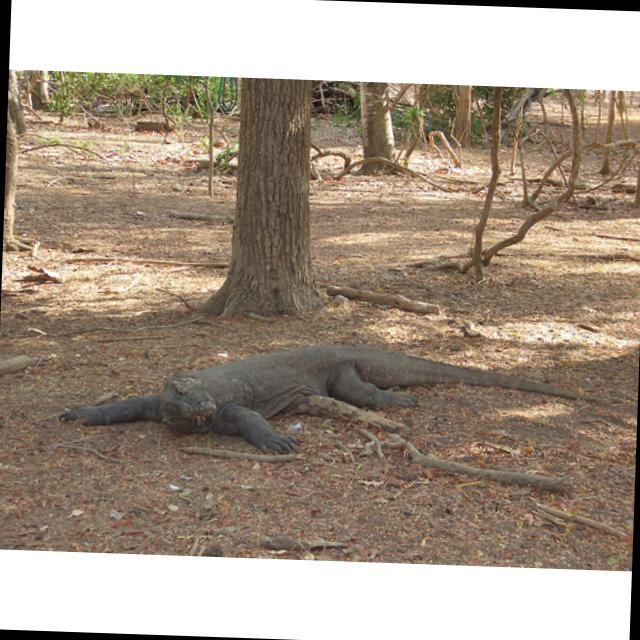KomodoDragon: (55, 333, 603, 467)
